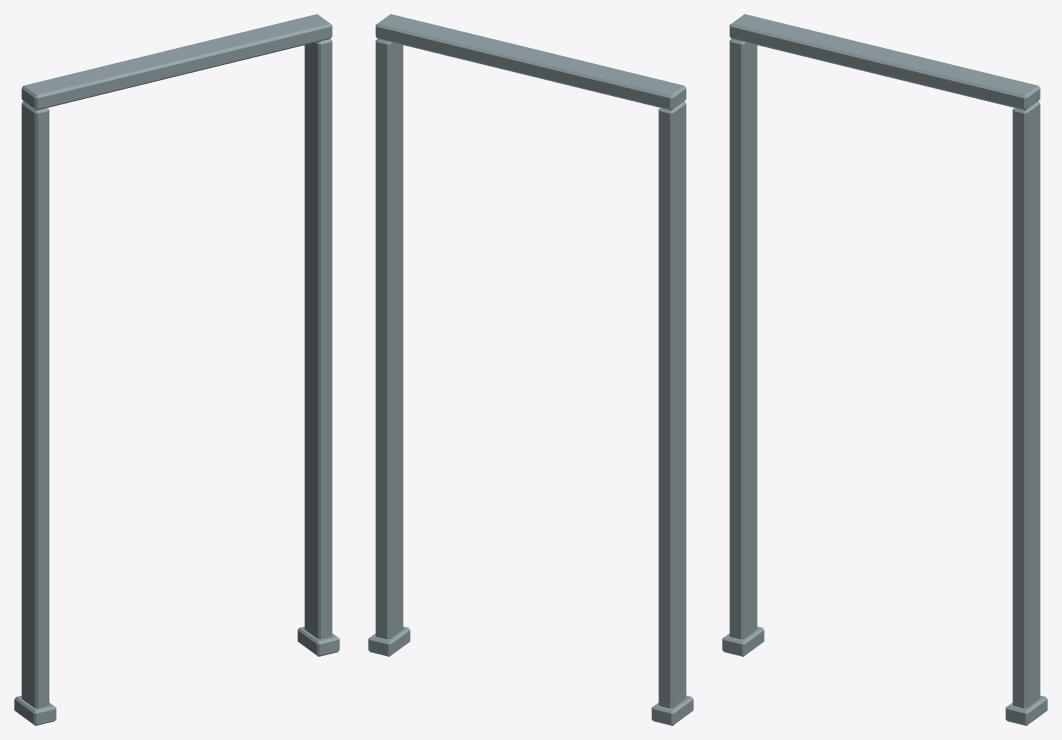
The model's file is Structure-StallDoorFrame.fbx.
3 renders of one model, left to right at view 1: azimuth 30°, elevation 25°; view 2: azimuth 150°, elevation 25°; view 3: azimuth 330°, elevation 25°, orthographic.
Parts seen in each view (by area): view 1: Jamb, Jamb.001, Header, Jamb Foot.001, Jamb Foot; view 2: Jamb, Jamb.001, Header, Jamb Foot.001, Jamb Foot; view 3: Jamb.001, Jamb, Header, Jamb Foot, Jamb Foot.001.
Boxes of the visible parts, x1,y1,x2,y2 form: Jamb: (21,101,49,708); Jamb.001: (304,39,332,639); Header: (21,14,332,110); Jamb Foot.001: (297,626,339,656); Jamb Foot: (14,695,56,725); Jamb: (658,101,686,708); Jamb.001: (375,39,403,639); Header: (375,14,686,110); Jamb Foot.001: (368,626,410,656); Jamb Foot: (651,695,693,725); Jamb.001: (1012,101,1040,708); Jamb: (729,39,757,639); Header: (729,14,1040,110); Jamb Foot: (722,626,764,656); Jamb Foot.001: (1005,695,1047,725).
Size of the model in its own units: 1.02 by 2.01 by 0.124.
